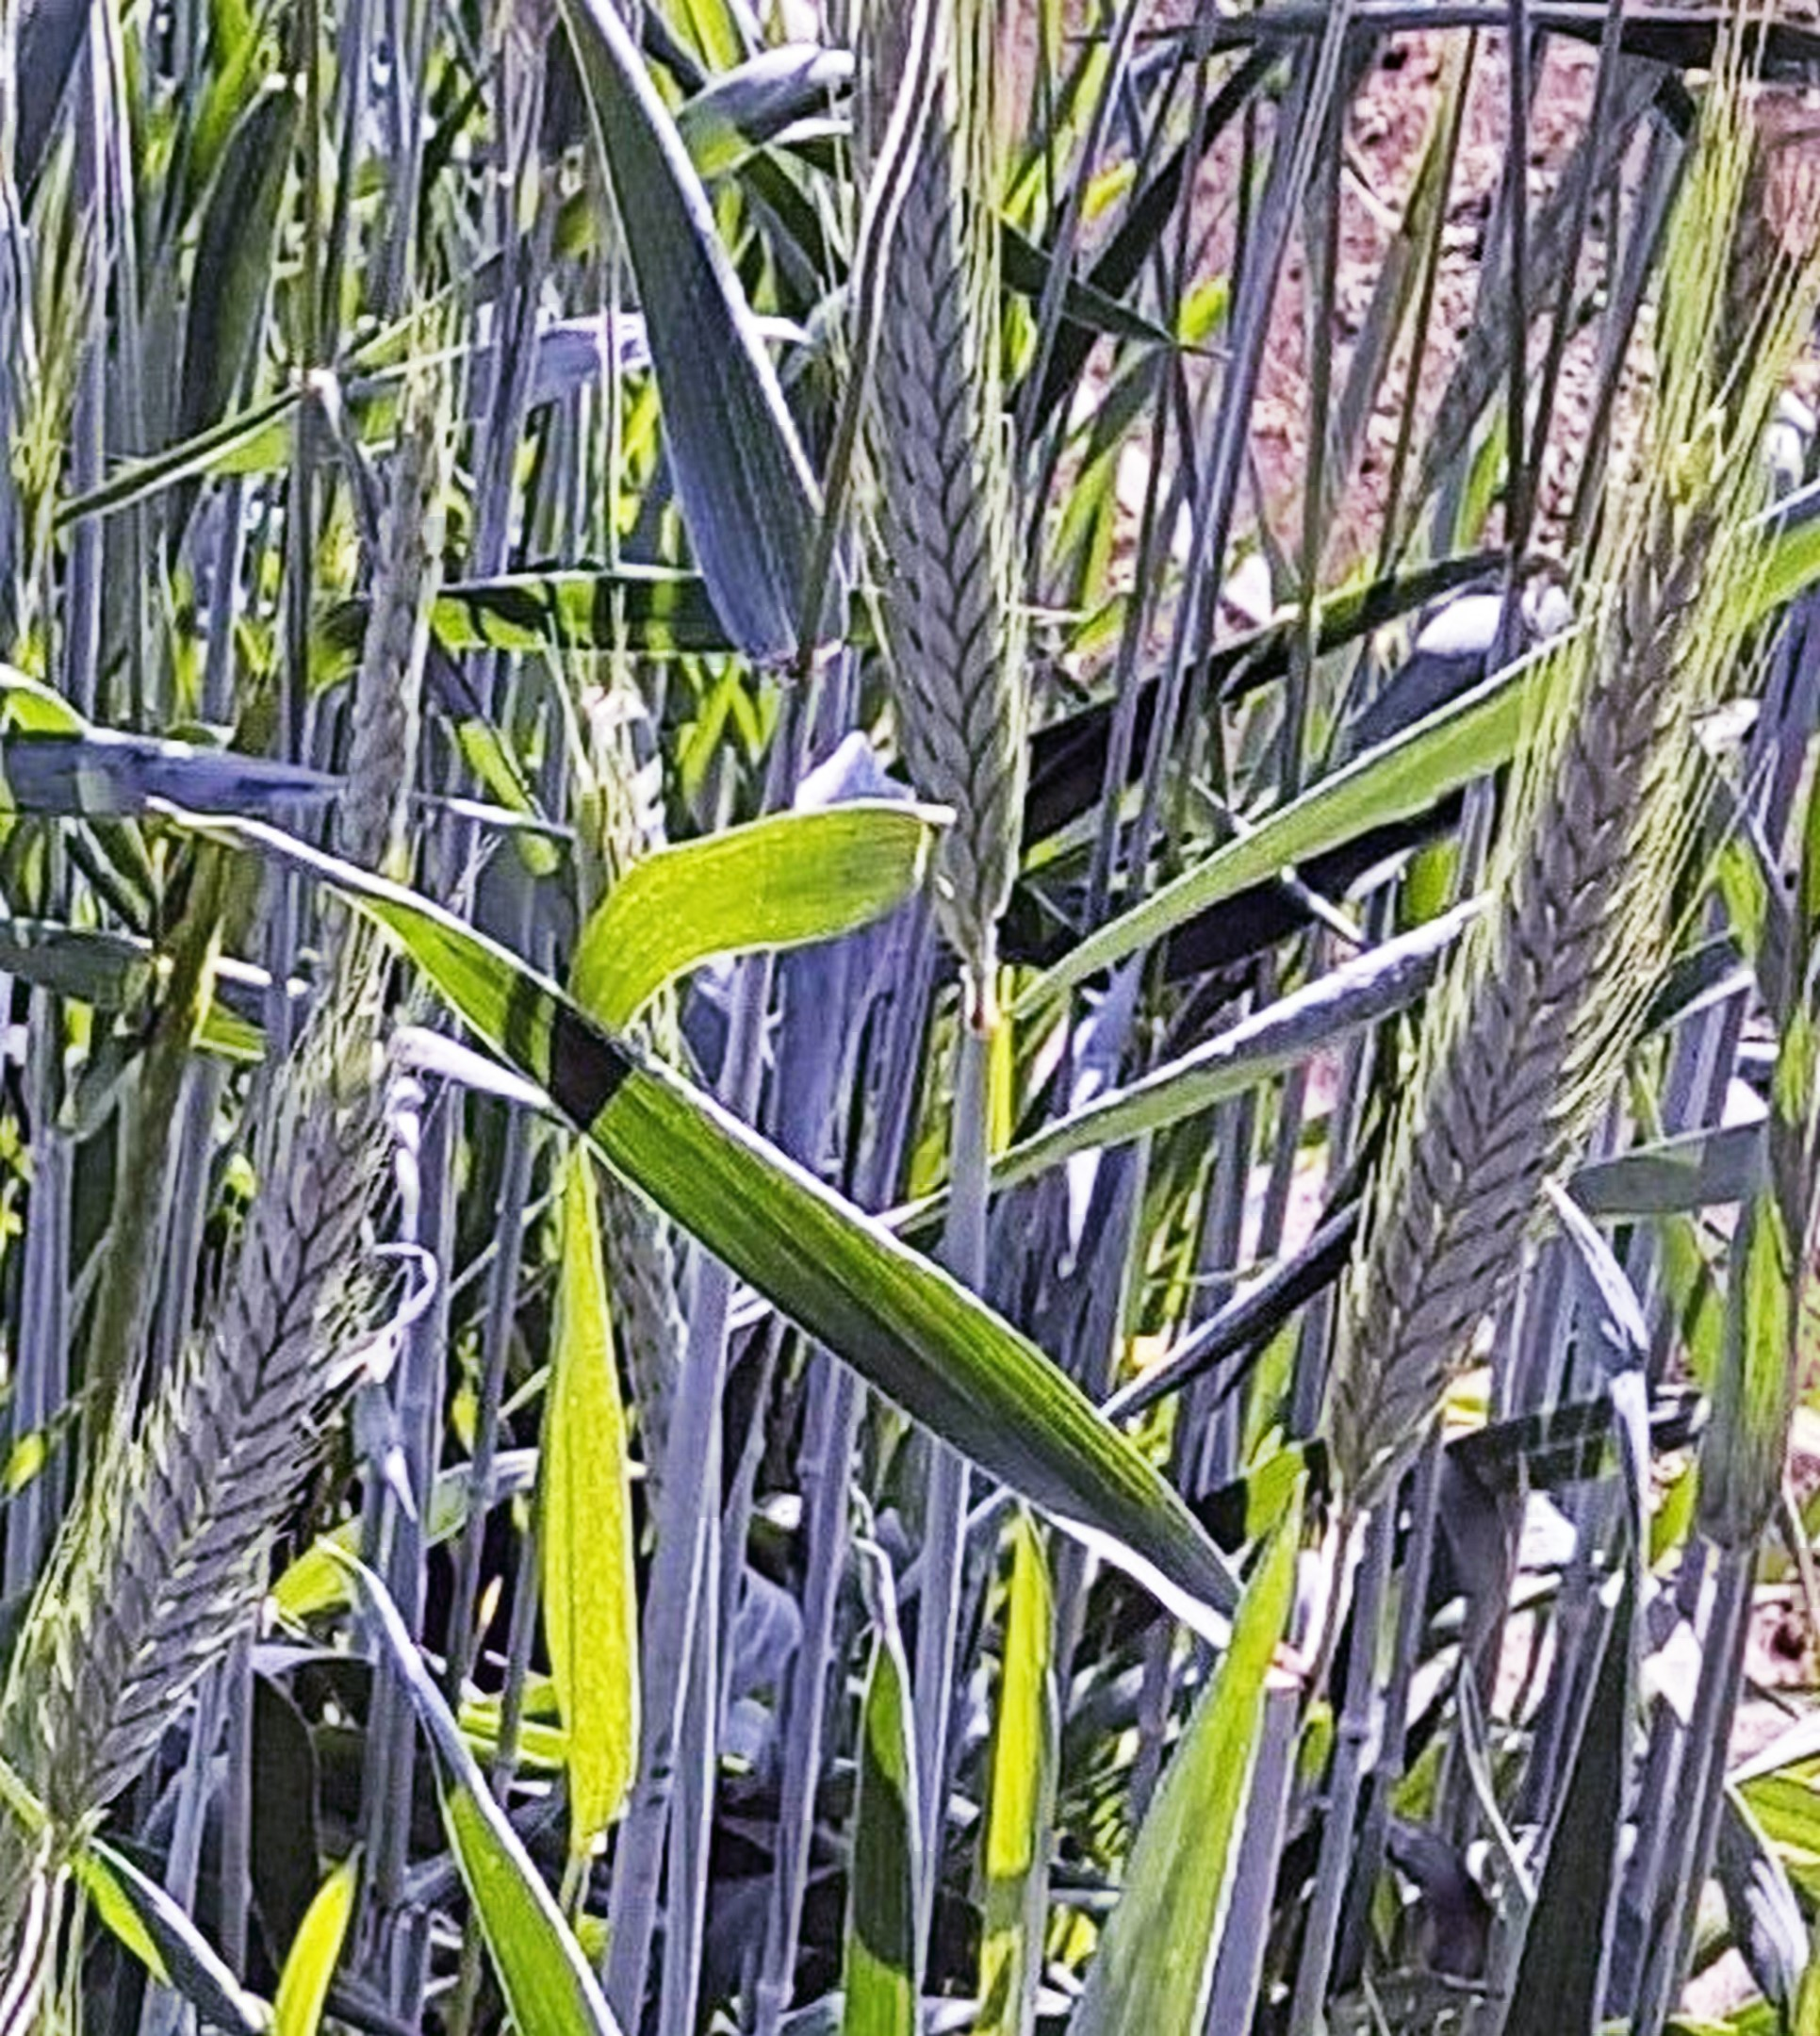Healthy Wheat: (1323, 469, 1771, 1484), (39, 1080, 420, 1830)
